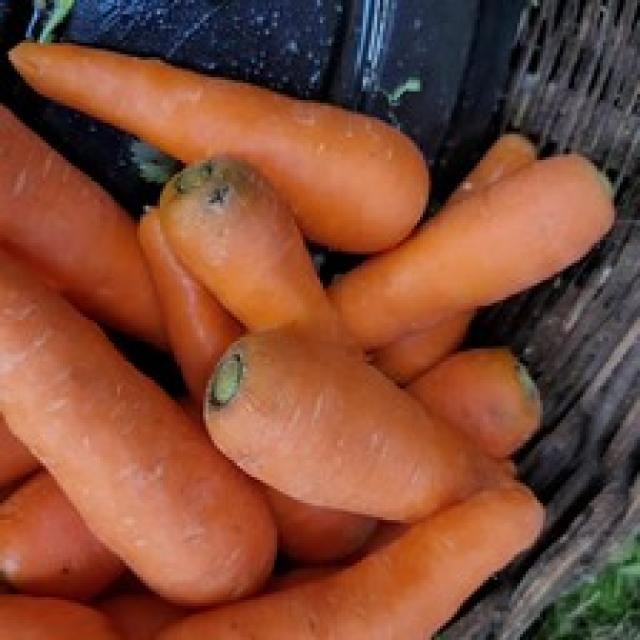Fresh_Carrot: (0, 252, 276, 603), (12, 45, 428, 251), (331, 136, 614, 347), (265, 342, 460, 514)
